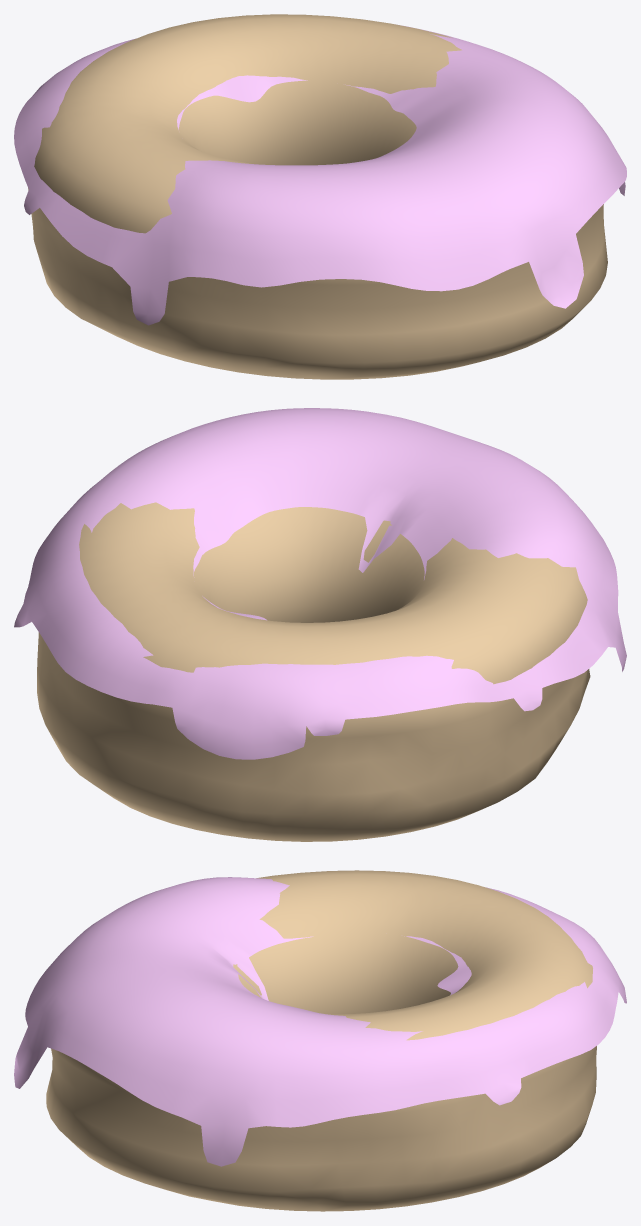
File: donut.glb
3 renders of one model, top to bottom at view 1: azimuth 30°, elevation 25°; view 2: azimuth 150°, elevation 25°; view 3: azimuth 270°, elevation 25°, orthographic. The views are drawn at different scales.
Visible parts, largest first — view 1: Donut, Icing; view 2: Donut, Icing; view 3: Donut, Icing.
Part boxes in pixels (x1,y1,x2,y2): Donut: (28,14,607,379); Icing: (14,25,626,325); Donut: (37,502,590,841); Icing: (14,408,626,759); Donut: (46,870,596,1211); Icing: (14,877,626,1166).
Size of what is drawn, in the model's own units: 0.6353 by 0.2551 by 0.7124.
